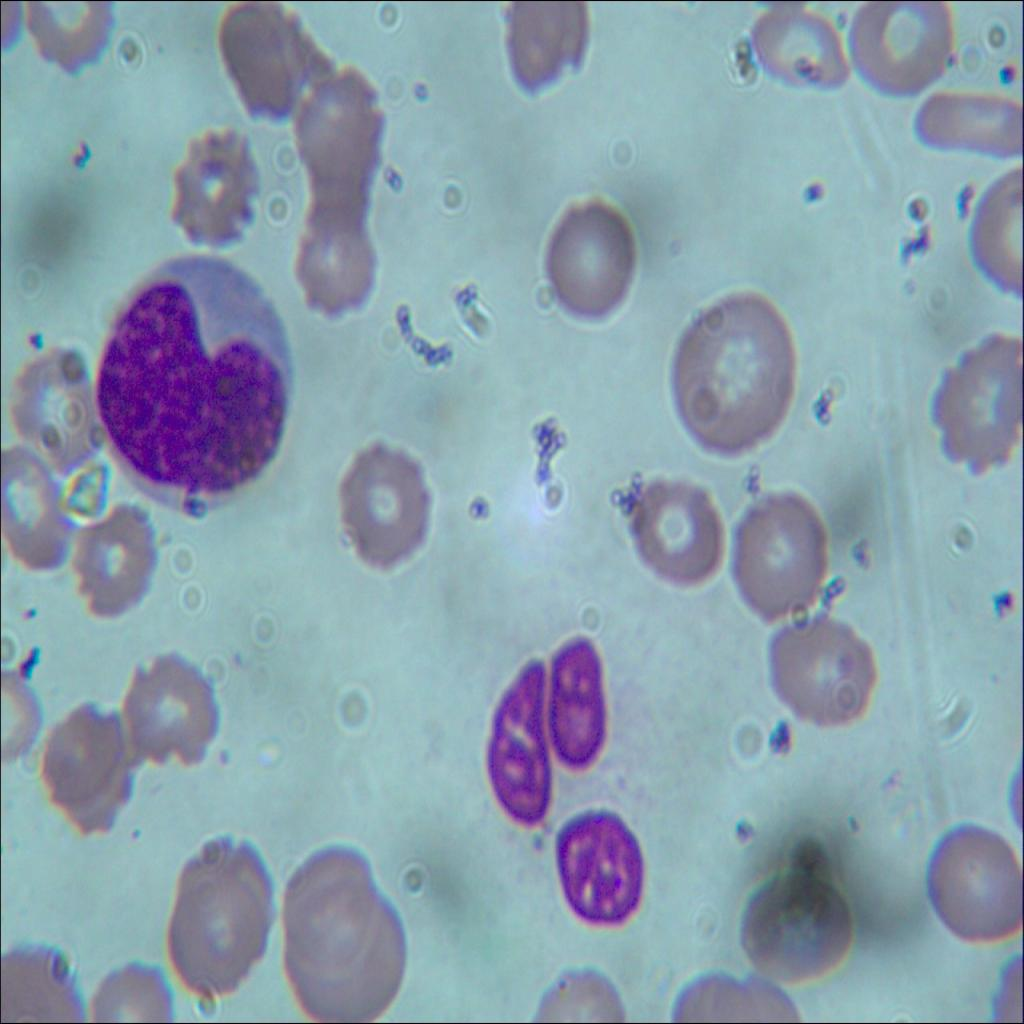Eritrosit: (666, 281, 801, 464), (164, 840, 278, 991), (289, 891, 408, 1023), (1, 343, 116, 477), (329, 434, 436, 574), (922, 328, 1023, 474), (728, 488, 834, 622), (768, 615, 882, 735), (164, 127, 268, 257), (216, 4, 323, 130), (924, 809, 1023, 945), (618, 468, 726, 589), (292, 59, 390, 192), (275, 836, 375, 966), (39, 696, 133, 834), (538, 192, 633, 324), (844, 0, 958, 109), (118, 648, 218, 771), (738, 875, 852, 980), (66, 508, 160, 625), (0, 438, 74, 580), (503, 0, 602, 105), (290, 215, 386, 322), (15, 0, 123, 70)
Limfoblast: (89, 255, 304, 524)
Neutrofil: (486, 634, 658, 936)
Platelet: (988, 44, 1022, 90), (793, 168, 828, 212)
